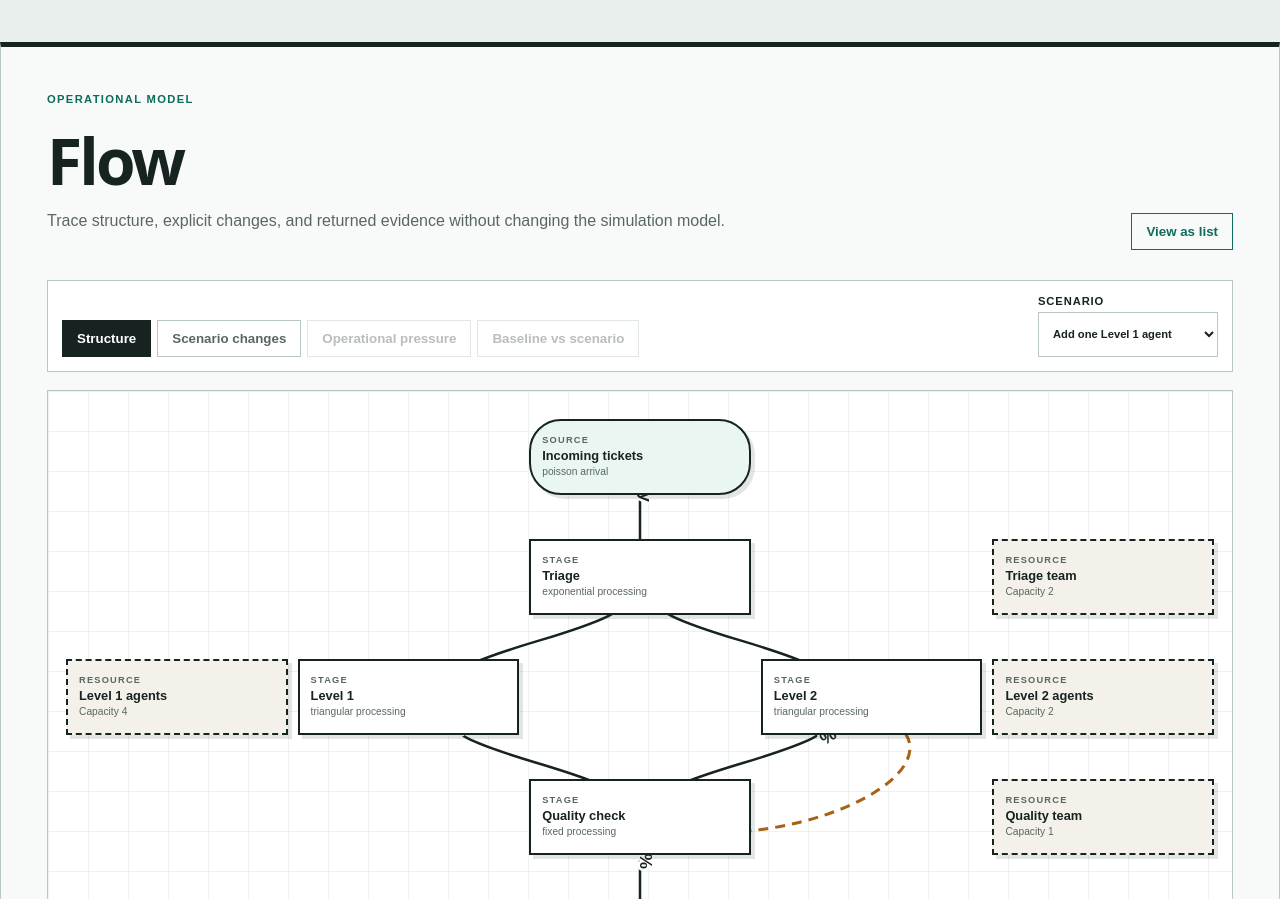
workflow visualization › shows explicit scenario changes before execution
This screenshot has width=1280, height=899.
Click the button "Scenario changes".
click(229, 338)  # box [157,320,301,357]
(page scrolled)
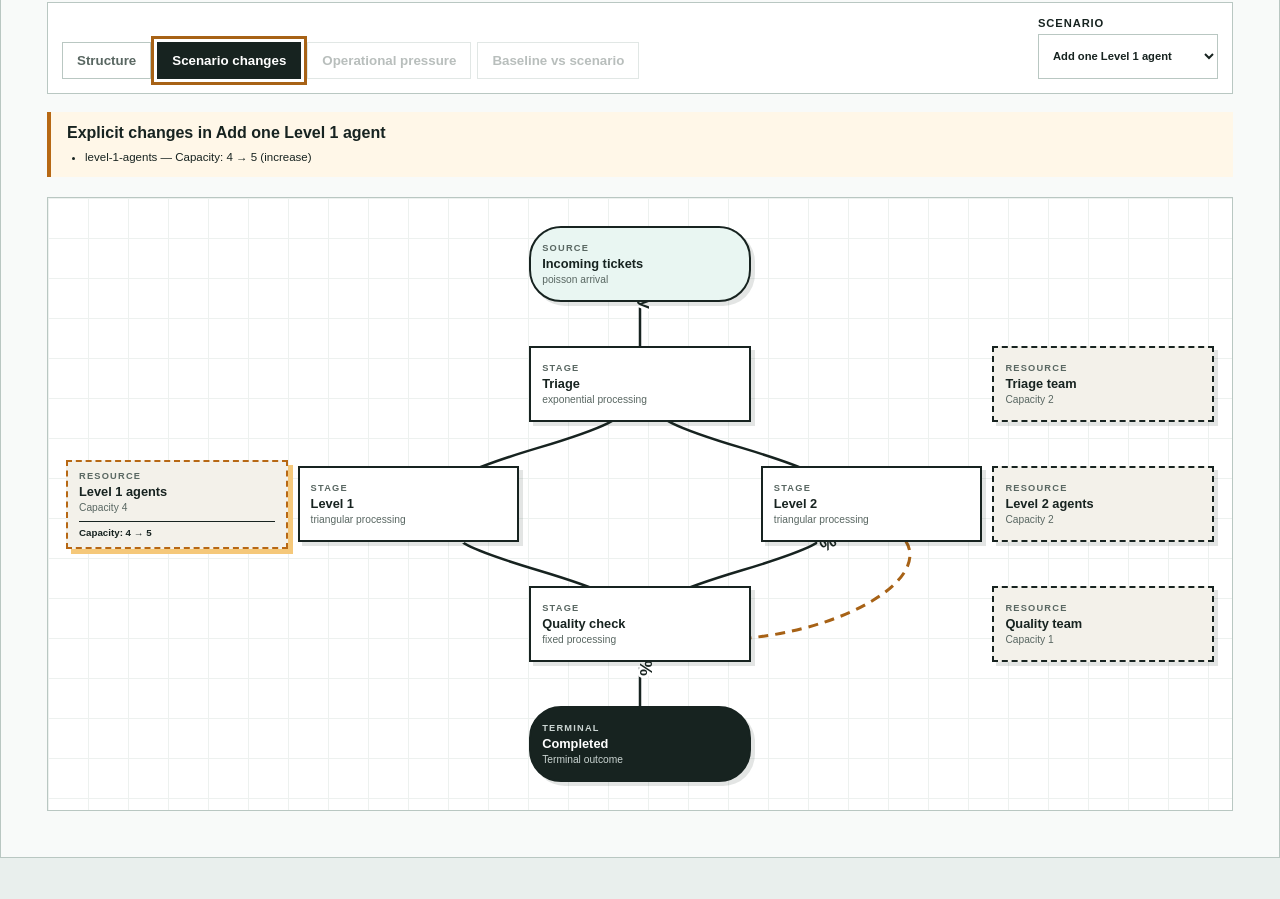
Check: the text "Capacity: 4 → 5" is shown, box [79,520,275,538]
Check: the button "resource Level 1 agents Capacity 4 Capacity: 4 → 5" is shown, box [66,460,288,549]
